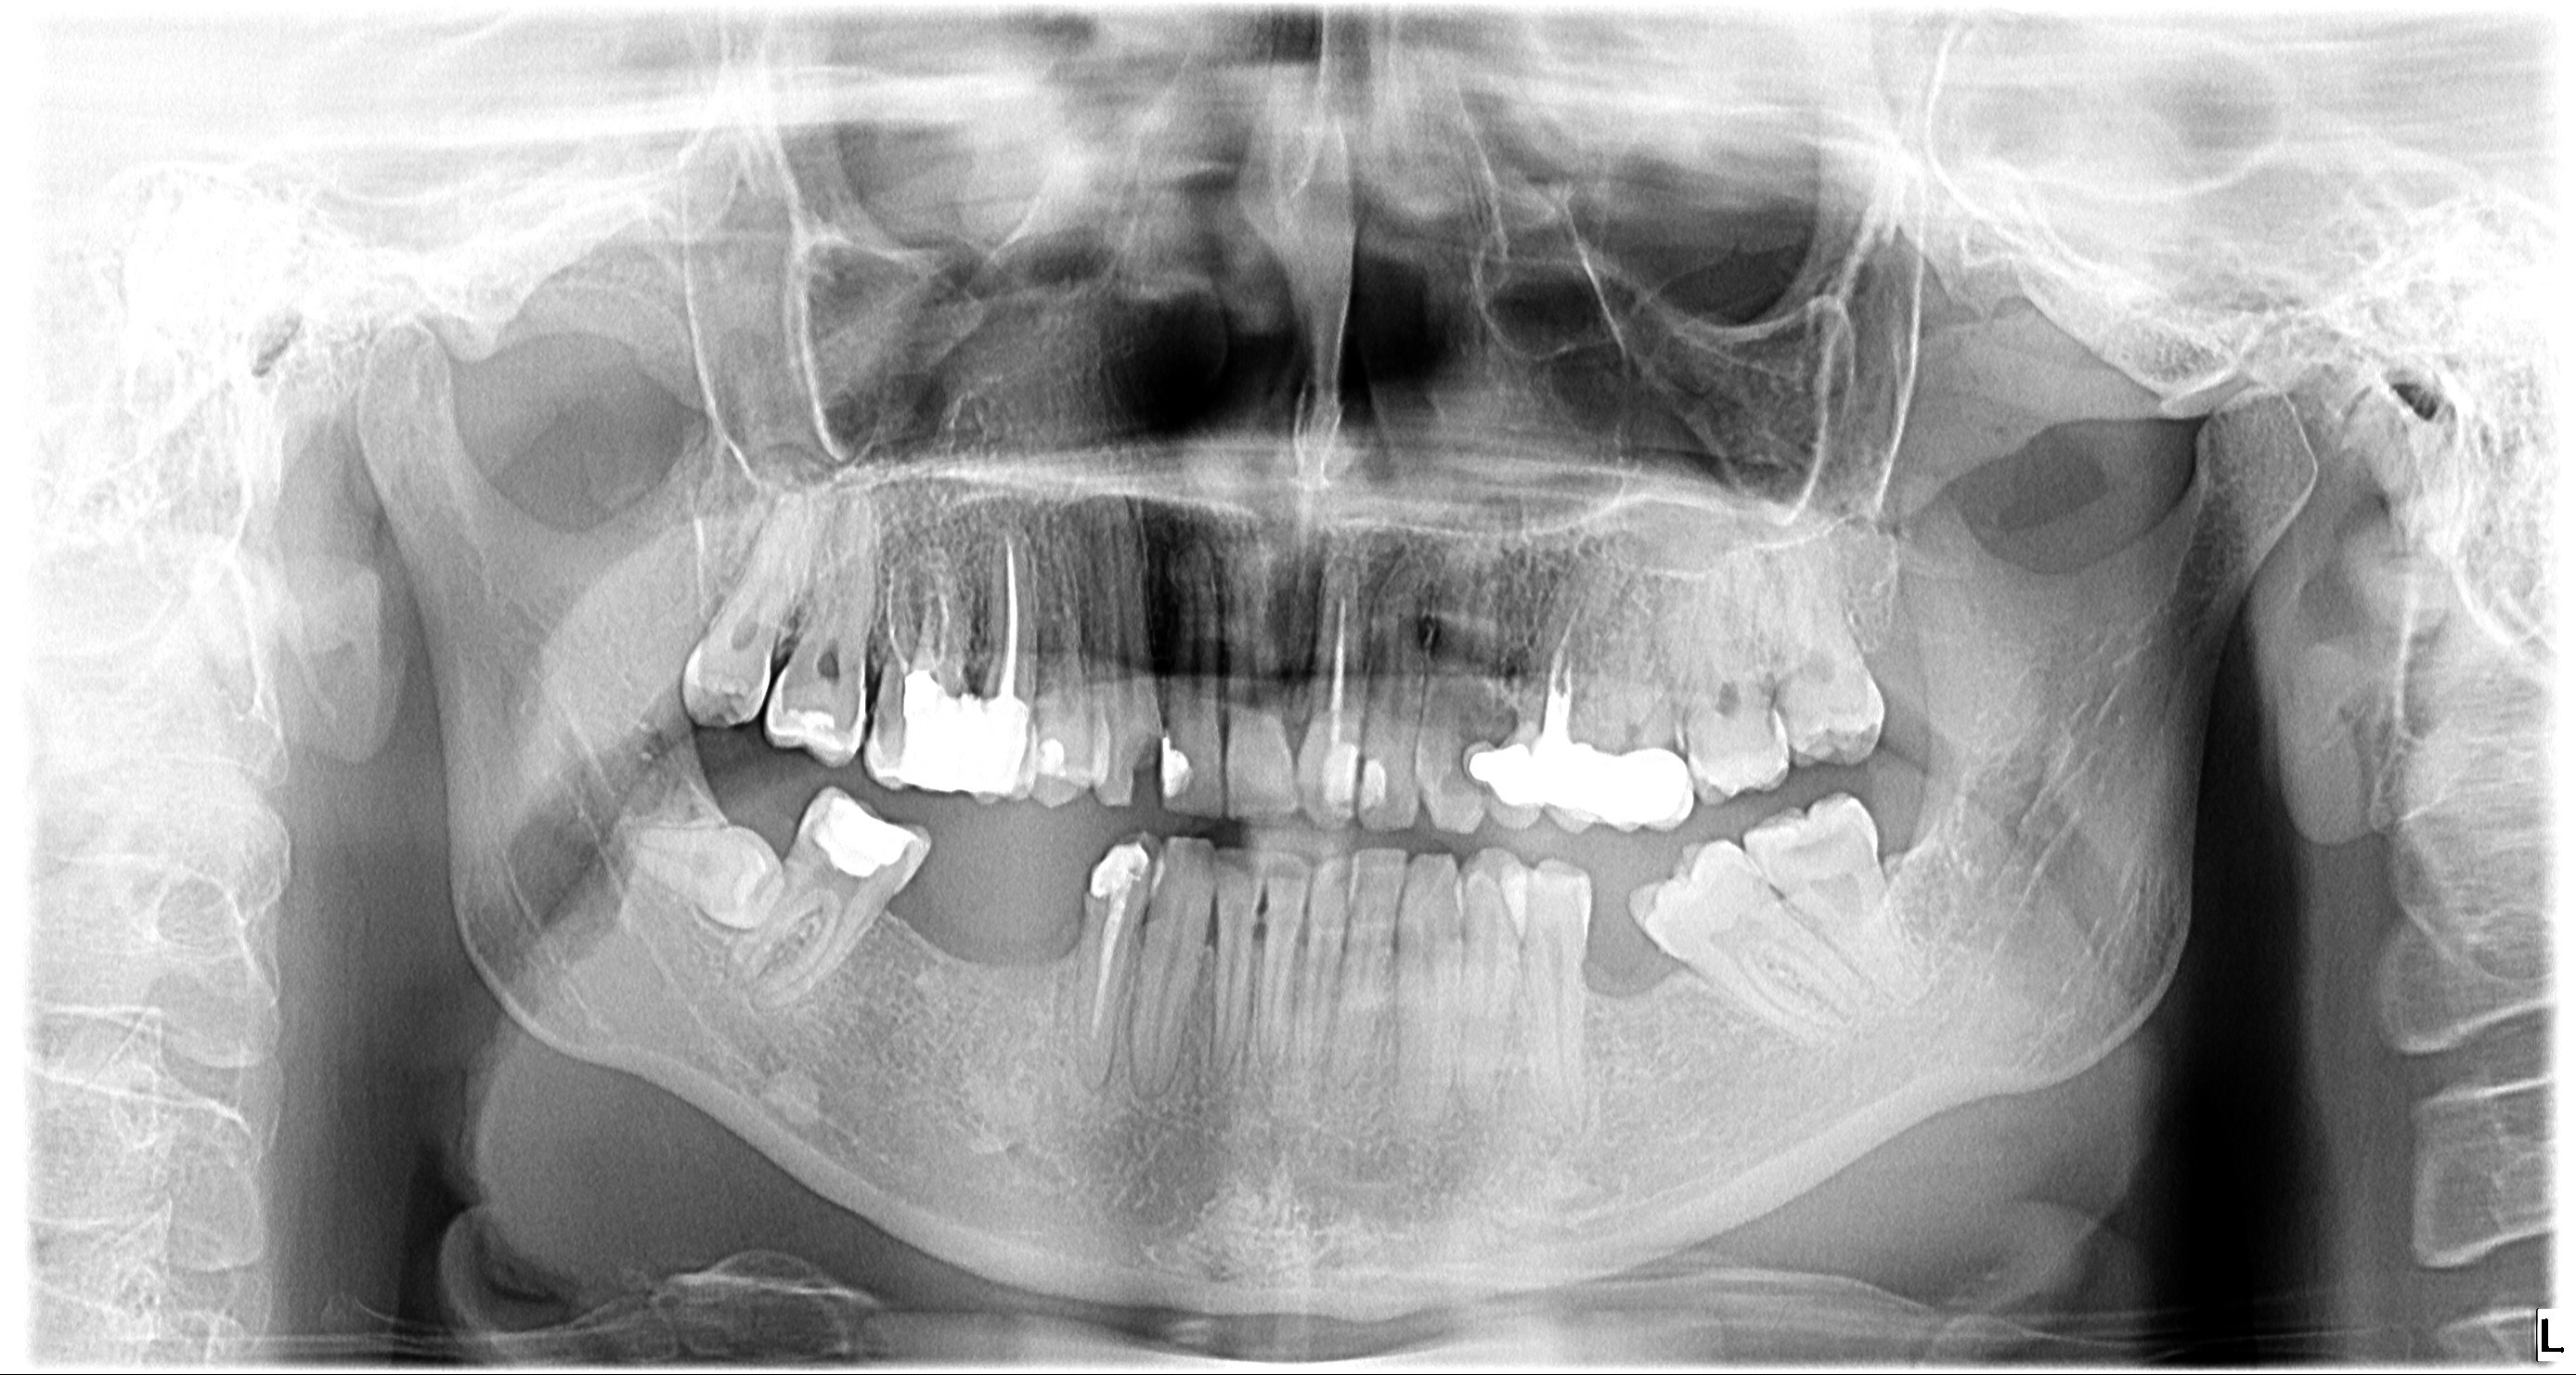BON: (615, 816, 794, 935)
CAR: (695, 673, 751, 722), (1128, 736, 1160, 804)
END: (884, 572, 952, 678), (1085, 895, 1126, 1039), (1544, 610, 1578, 739), (1322, 598, 1348, 750), (1000, 538, 1024, 697)
IMT: (1581, 944, 1695, 1004), (1036, 918, 1084, 963), (855, 661, 889, 702), (1479, 716, 1513, 755), (1198, 906, 1225, 942), (1252, 908, 1269, 939)
OBT: (1470, 741, 1699, 833)
PRR: (906, 692, 1017, 792), (809, 791, 906, 872), (1085, 837, 1148, 900), (1709, 743, 1780, 797), (1315, 748, 1354, 811), (1167, 734, 1198, 801), (1354, 763, 1387, 814), (1034, 741, 1072, 782), (784, 707, 831, 736)
